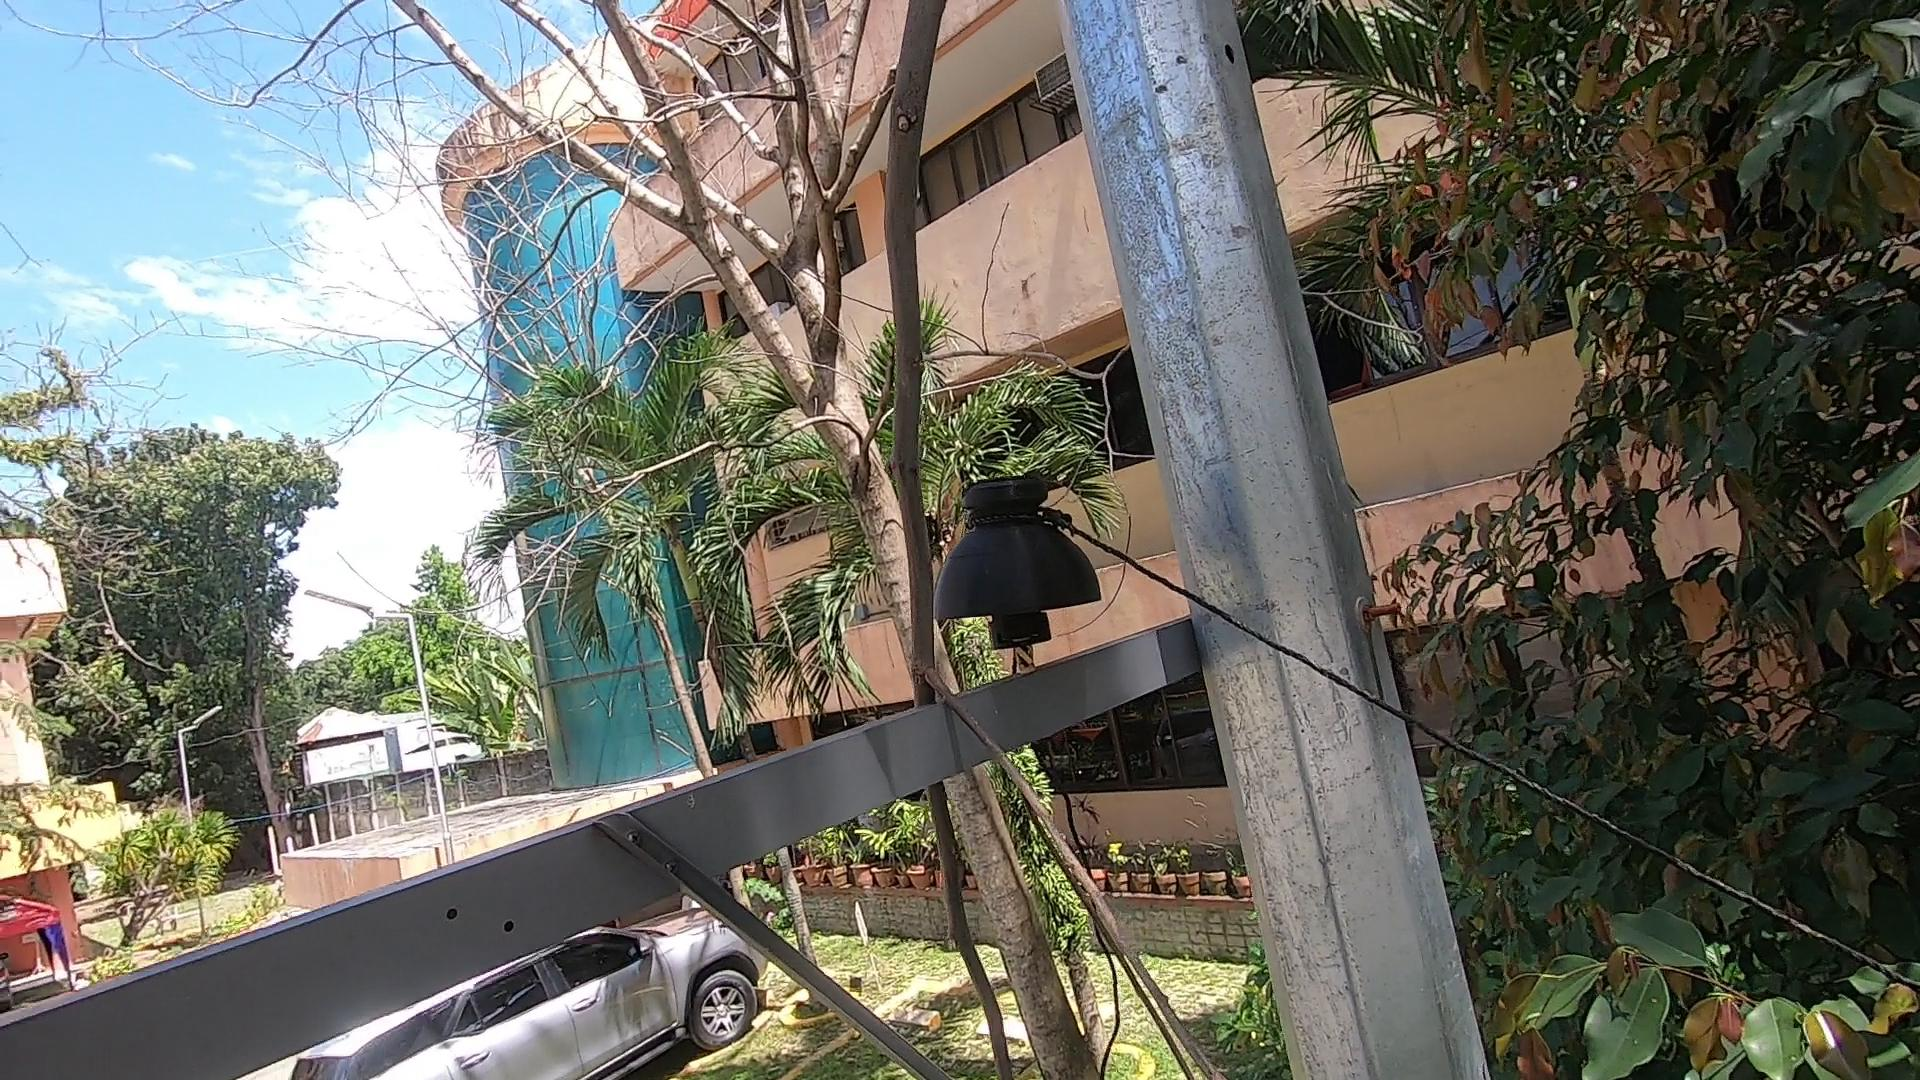tree branch: (810, 3, 1247, 1080)
